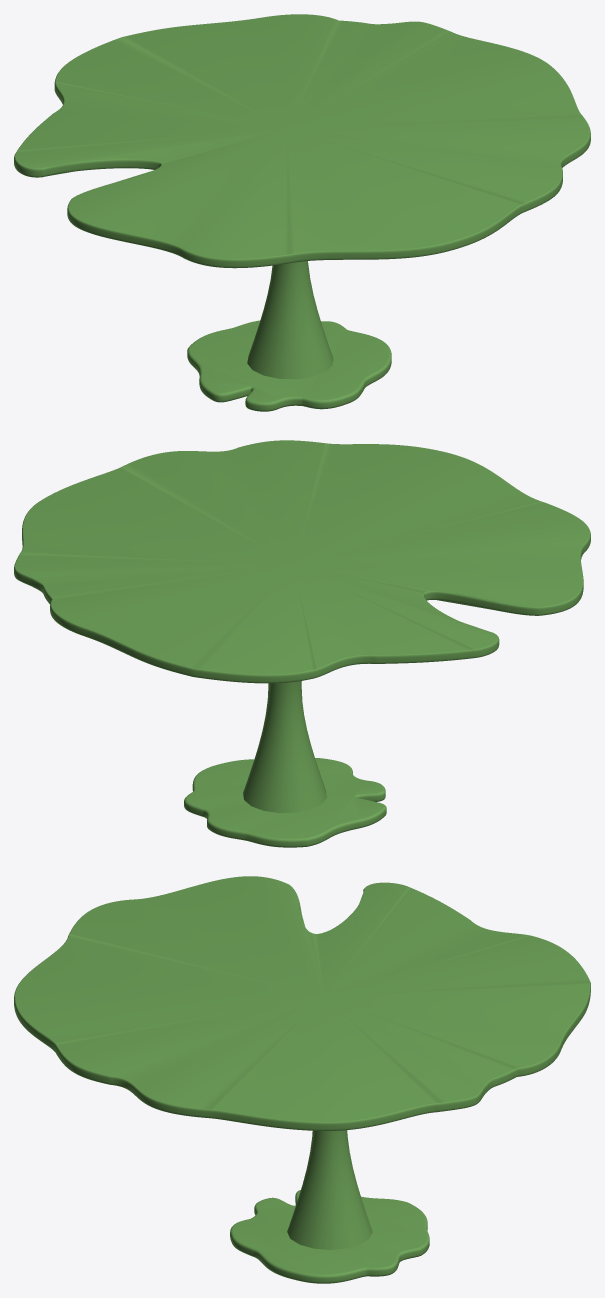
File: 3dmuebles2.glb
3 views of the same model, one above another, from view 1: azimuth 30°, elevation 25°; view 2: azimuth 150°, elevation 25°; view 3: azimuth 270°, elevation 25° (orthographic). The views are drawn at different scales.
Parts seen in each view (by area): view 1: nenufar grande, nenufar base, pata; view 2: nenufar grande, nenufar base, pata; view 3: nenufar grande, nenufar base, pata.
Boxes of the visible parts, x1,y1,x2,y2 form: nenufar grande: [14, 14, 590, 268]; nenufar base: [187, 320, 391, 411]; pata: [247, 261, 333, 379]; nenufar grande: [14, 440, 590, 683]; nenufar base: [184, 758, 386, 847]; pata: [243, 681, 326, 813]; nenufar grande: [14, 876, 590, 1130]; nenufar base: [230, 1190, 429, 1283]; pata: [287, 1130, 372, 1249].
Bounding box in the file's own units: 69.92 × 31.88 × 69.02.
